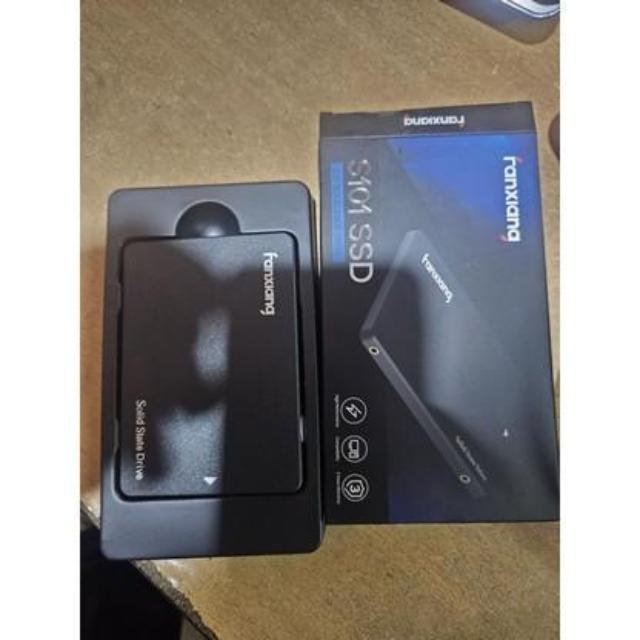DISK: (111, 236, 306, 498)
